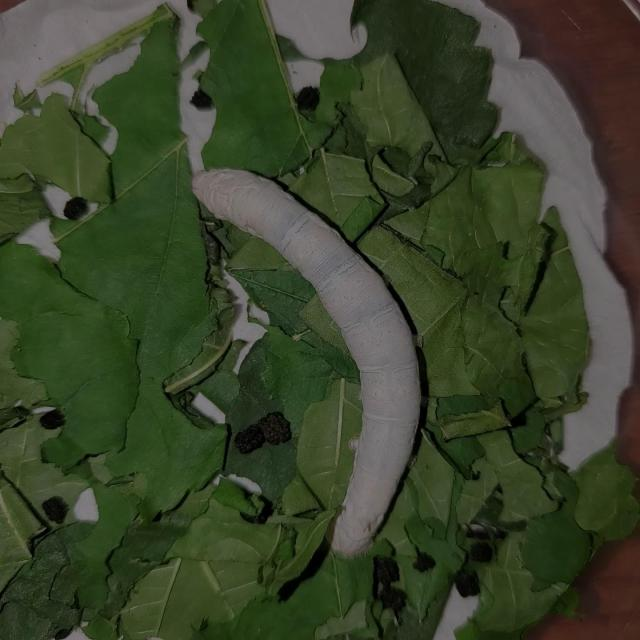Healthy: (174, 129, 436, 585)
